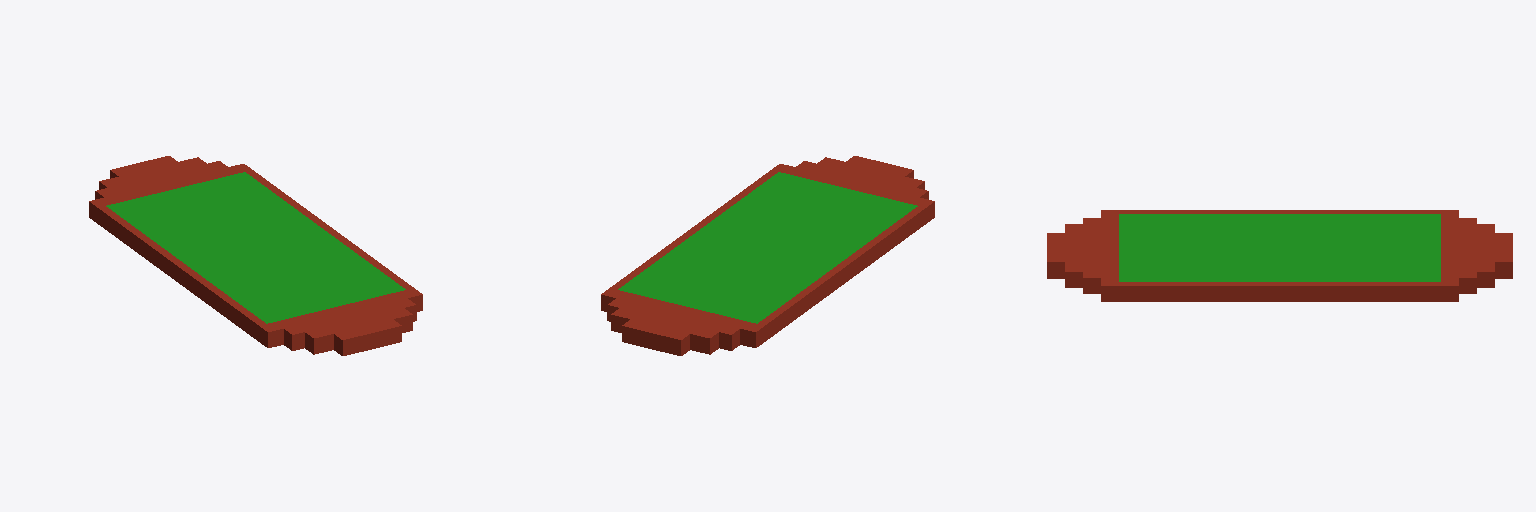
Rendered from spceslider.obj.
3 views of the same model, side by side, from view 1: azimuth 30°, elevation 25°; view 2: azimuth 150°, elevation 25°; view 3: azimuth 270°, elevation 25° (orthographic).
Parts seen in each view (by area): view 1: Cube; view 2: Cube; view 3: Cube.
Boxes of the visible parts, box(x1,y1,x2,y2) form: Cube: box(89, 156, 422, 355); Cube: box(601, 156, 934, 355); Cube: box(1047, 210, 1512, 301).
Bounding box in the file's own units: 2 × 0.2 × 5.2.